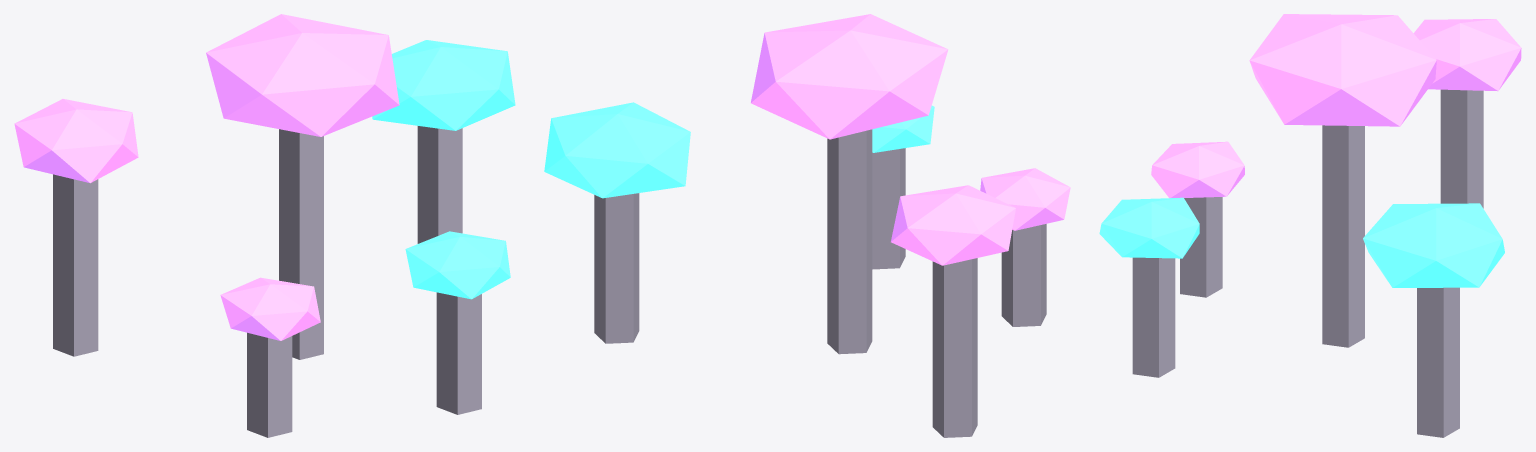
File: mushroom_cluster.glb
3 renders of one model, left to right at view 1: azimuth 30°, elevation 25°; view 2: azimuth 150°, elevation 25°; view 3: azimuth 270°, elevation 25°, orthographic.
Visible parts, largest first — view 1: mushroom_cluster; view 2: mushroom_cluster; view 3: mushroom_cluster.
Part boxes in pixels (x1,y1,x2,y2): mushroom_cluster: [14, 14, 515, 437]; mushroom_cluster: [544, 14, 1070, 437]; mushroom_cluster: [1099, 14, 1521, 437].
Size of the model in its own units: 2.28 by 1.46 by 1.78.
